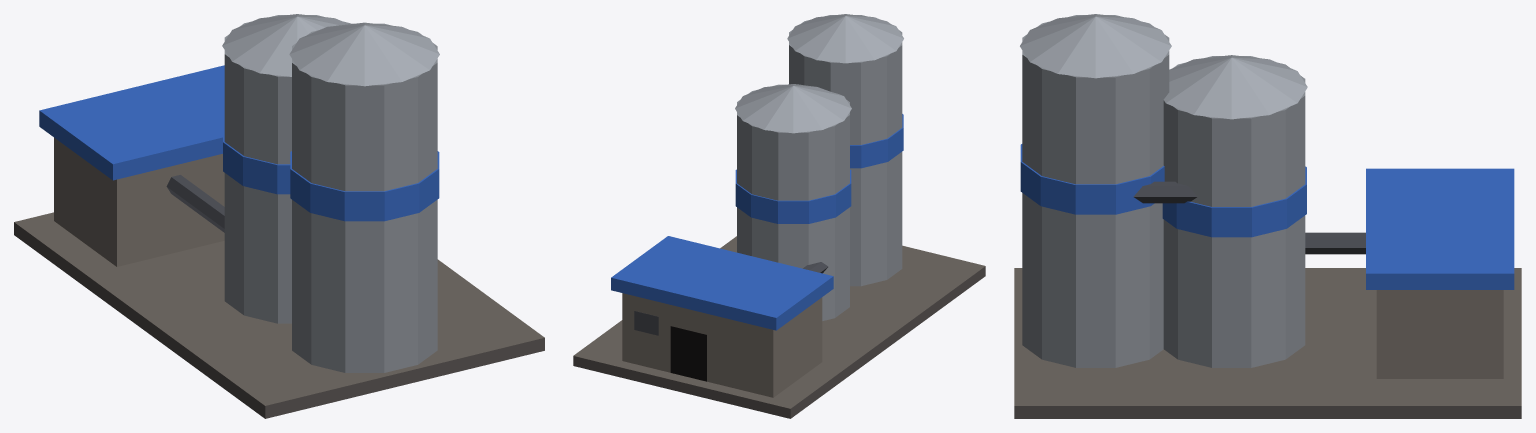
File: refinery.glb
3 renders of one model, left to right at view 1: azimuth 30°, elevation 25°; view 2: azimuth 150°, elevation 25°; view 3: azimuth 270°, elevation 25°, orthographic. The views are drawn at different scales.
Parts seen in each view (by area): view 1: refinery; view 2: refinery; view 3: refinery.
Boxes of the visible parts, x1,y1,x2,y2 form: refinery: [14, 14, 544, 418]; refinery: [573, 14, 985, 418]; refinery: [1014, 14, 1521, 418].
Size of the model in its own units: 1.8 by 2.03 by 2.8.
